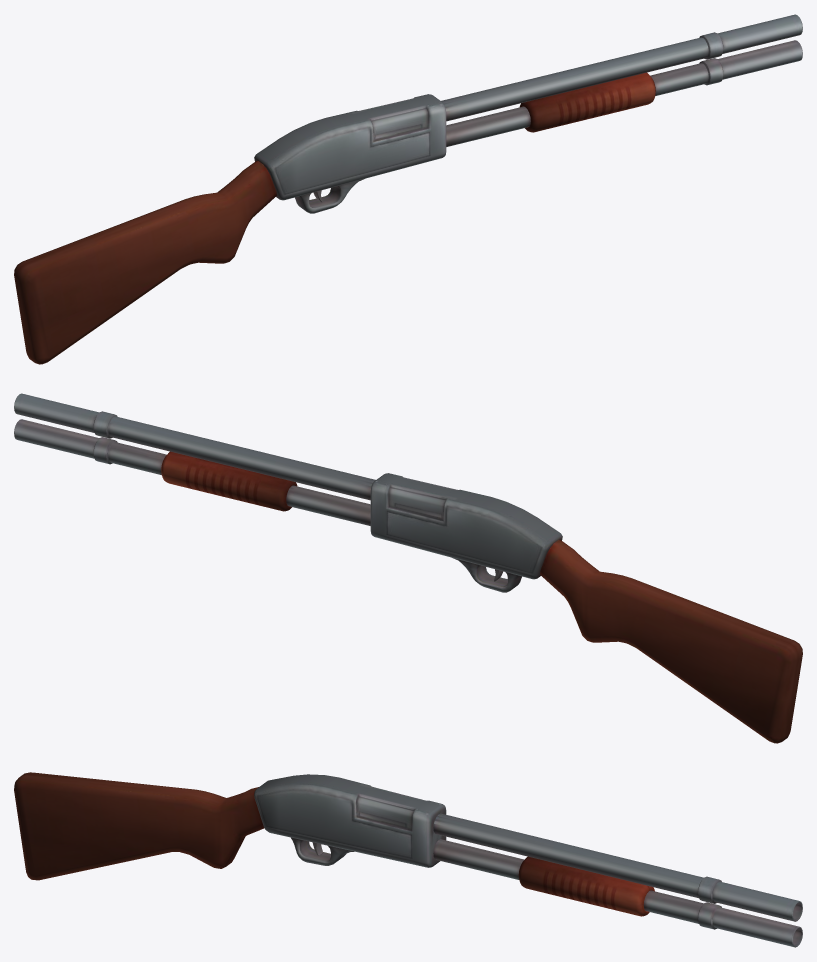
Rendered from shotgun.glb.
3 renders of one model, top to bottom at view 1: azimuth 30°, elevation 25°; view 2: azimuth 150°, elevation 25°; view 3: azimuth 330°, elevation 25°, orthographic.
Visible parts, largest first — view 1: shotgun, shotgunpomp; view 2: shotgun, shotgunpomp; view 3: shotgun, shotgunpomp.
Boxes of the visible parts, bbox=[...] form: shotgun: bbox=[14, 14, 802, 364]; shotgunpomp: bbox=[519, 72, 655, 132]; shotgun: bbox=[14, 393, 802, 743]; shotgunpomp: bbox=[161, 451, 297, 511]; shotgun: bbox=[14, 772, 802, 947]; shotgunpomp: bbox=[518, 856, 654, 916].
Bounding box in the file's own units: 0.6341 × 0.1305 × 0.0255.
1 material, 1 textured.
